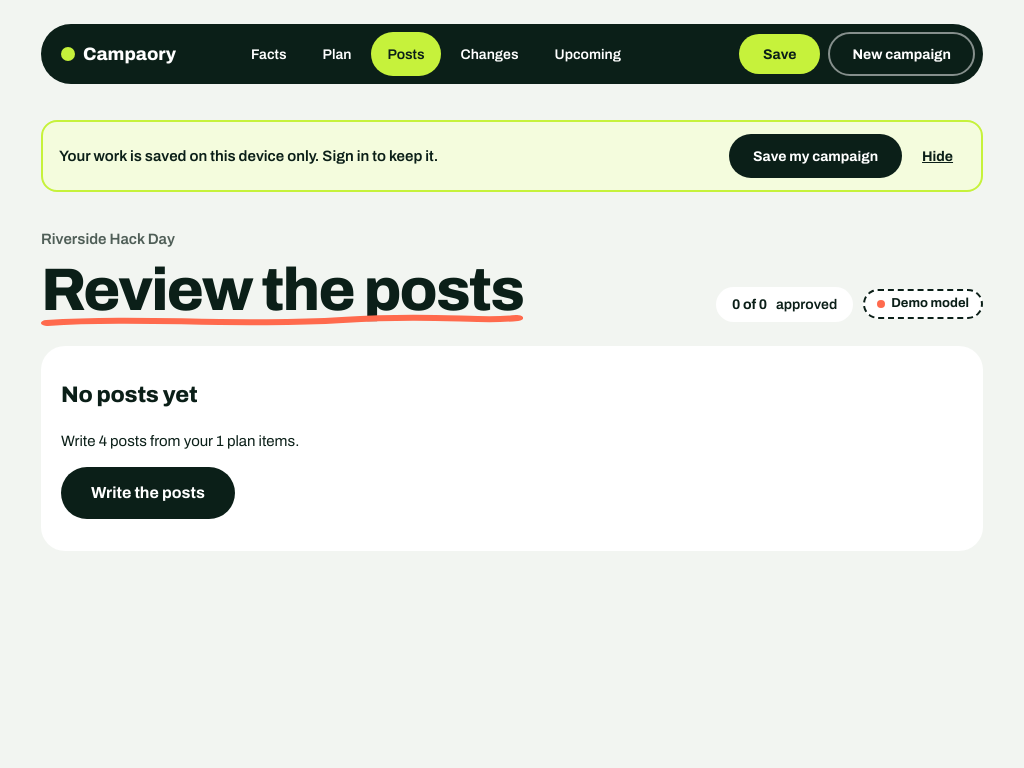
it: posts › batched generation applies drafts and shows the demo badge
Click the button "Write the posts": (148, 493) [61,467,235,519]
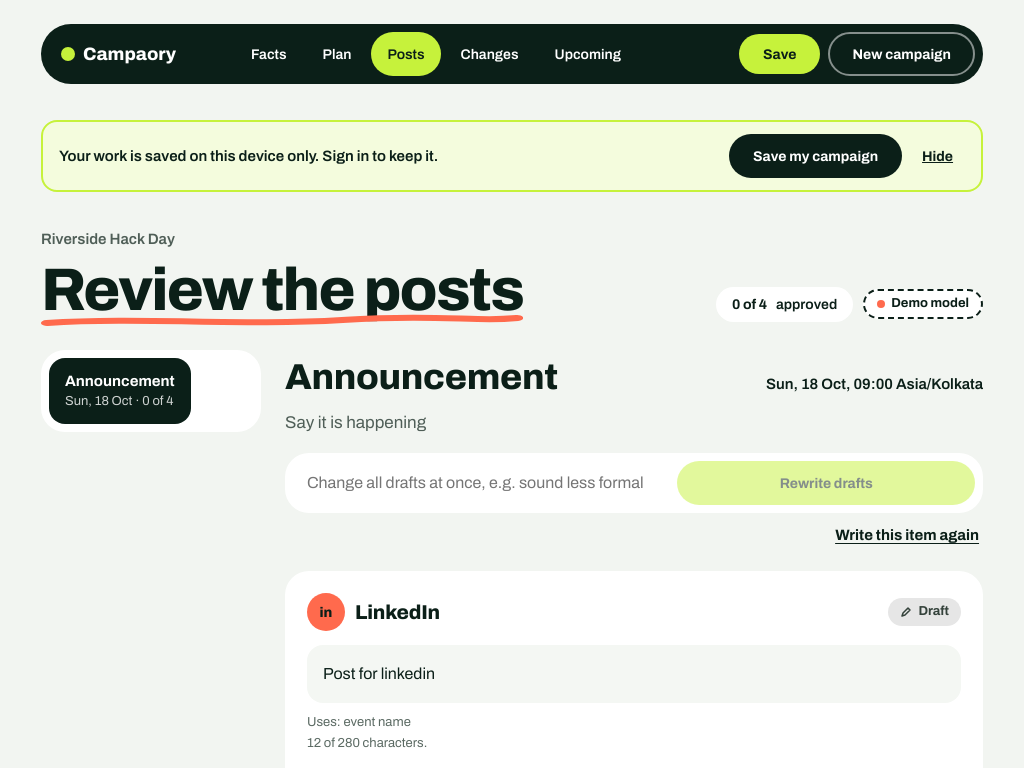
expect the text "Demo model" is shown: met, box [863,289,983,319]
expect the text "Post for linkedin" is shown: met, box [323,665,435,682]
